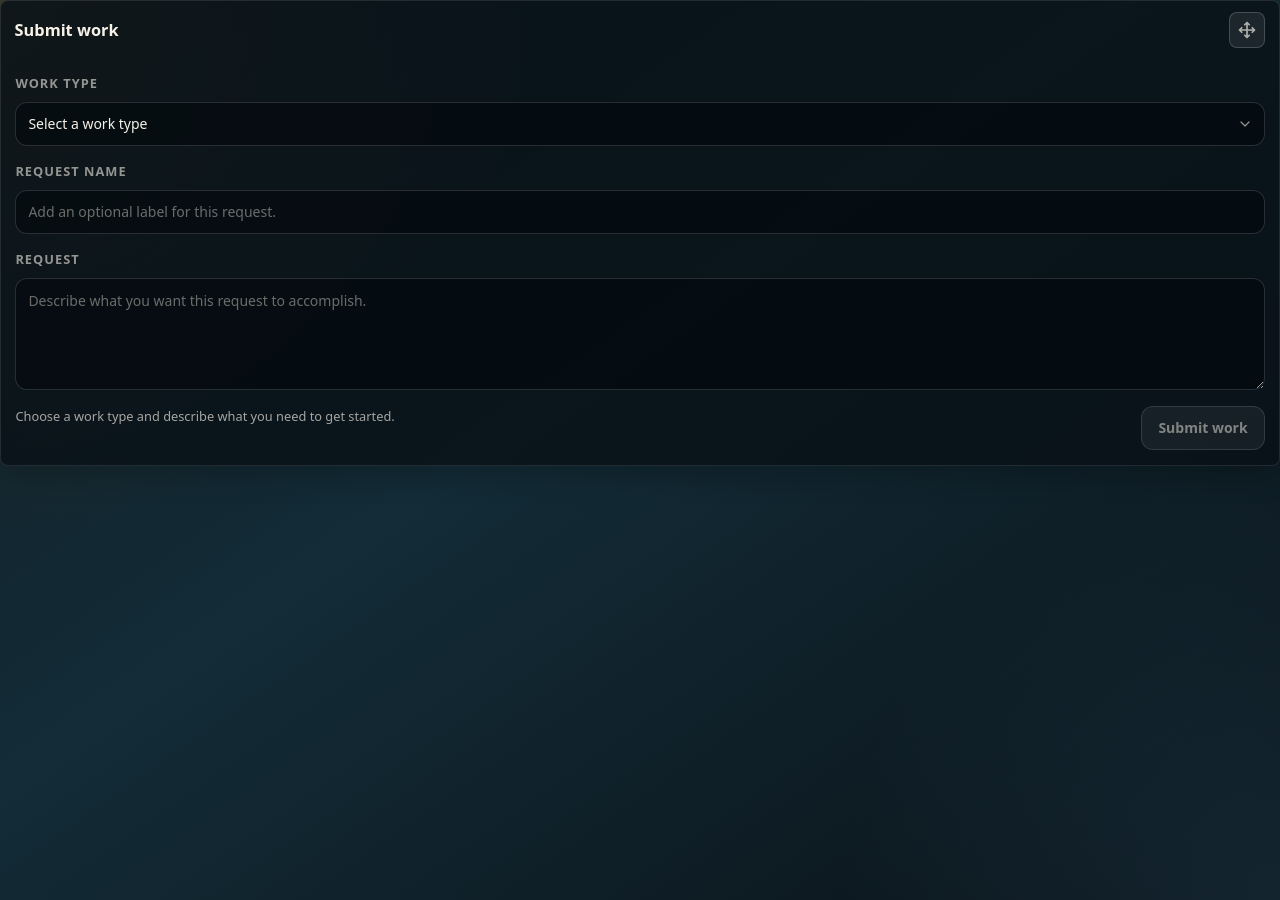
SubmitWorkWidget › omits the request name when the field is blank
Select "story" in the dropdown labelled "Work type" at (640, 124), box [15, 102, 1265, 146]
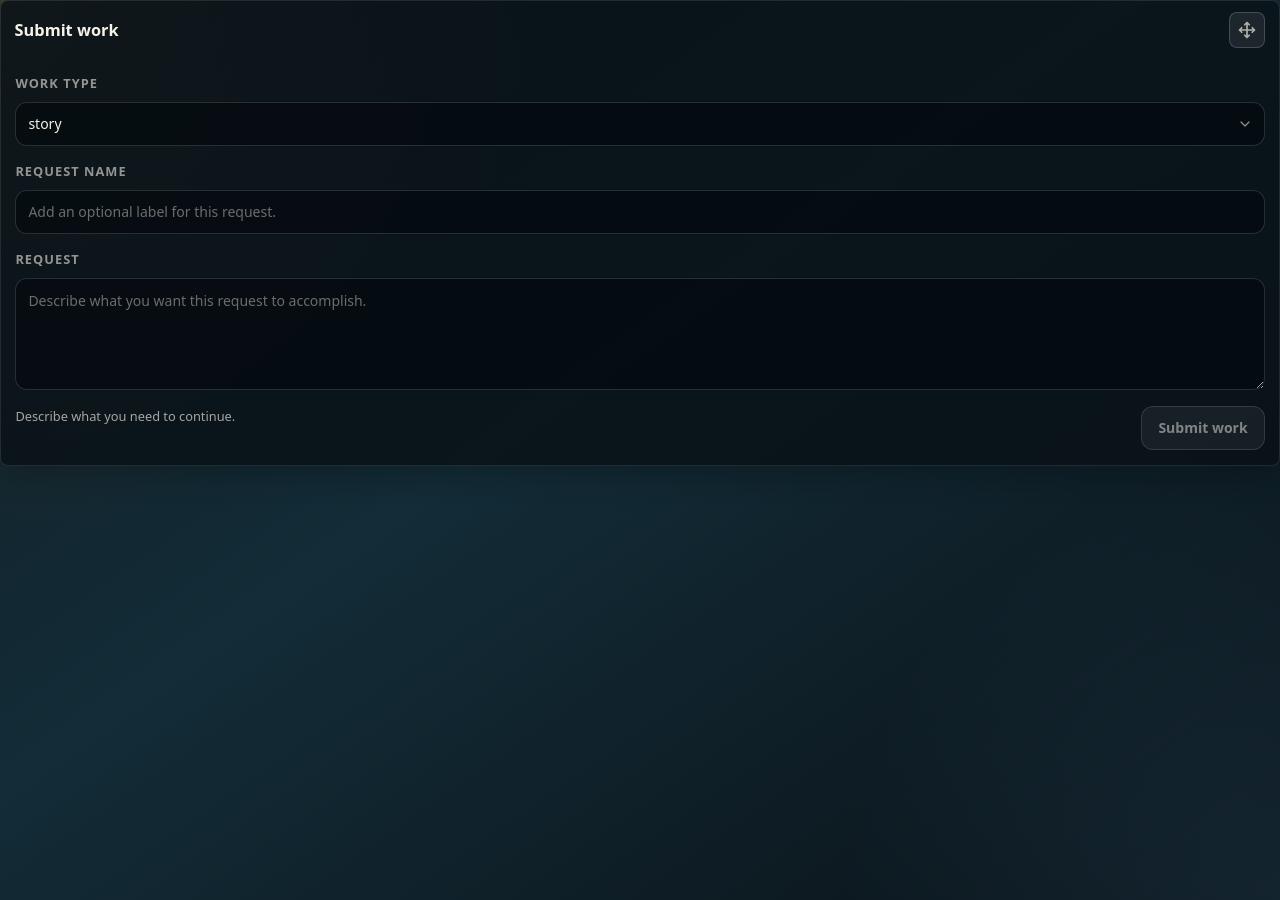
Type "Review the queue and summarize the failure." into the text box labelled "Request" at (640, 334), box [15, 278, 1265, 390]
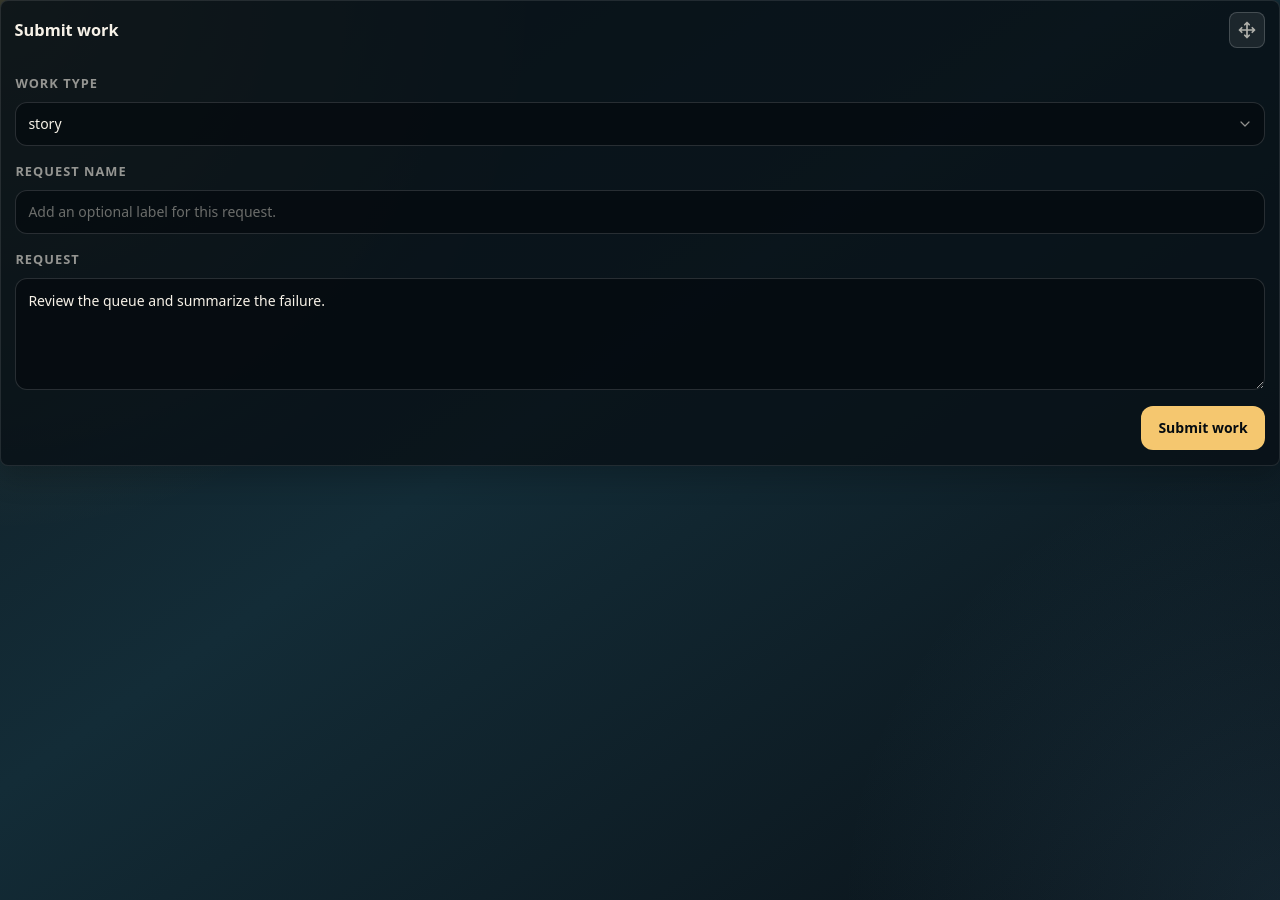
Click the button "Submit work" at (1203, 428), box [1141, 406, 1265, 450]
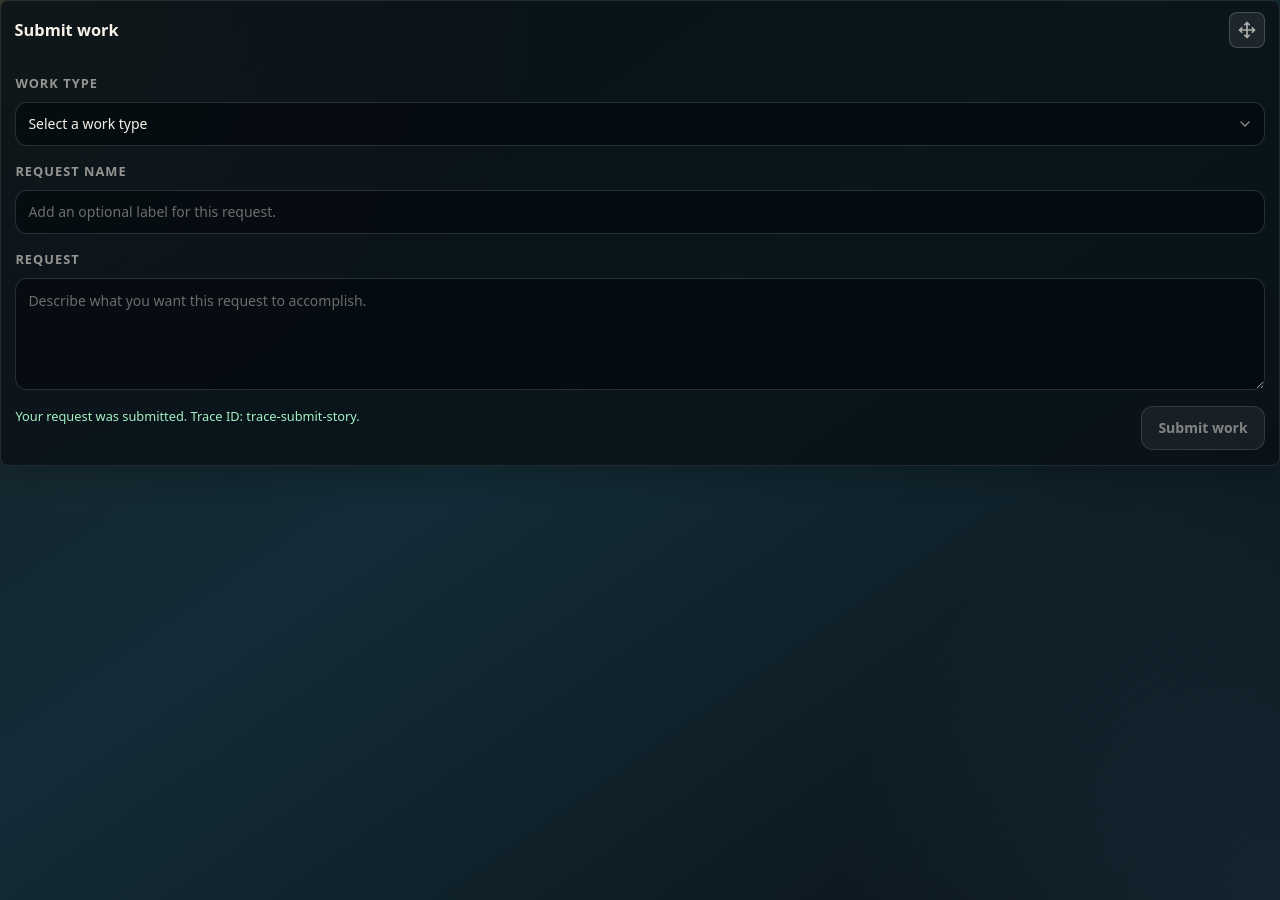
Now the text "Your request was submitted. Trace ID: trace-submit-story." is shown, box [15, 406, 360, 427]
